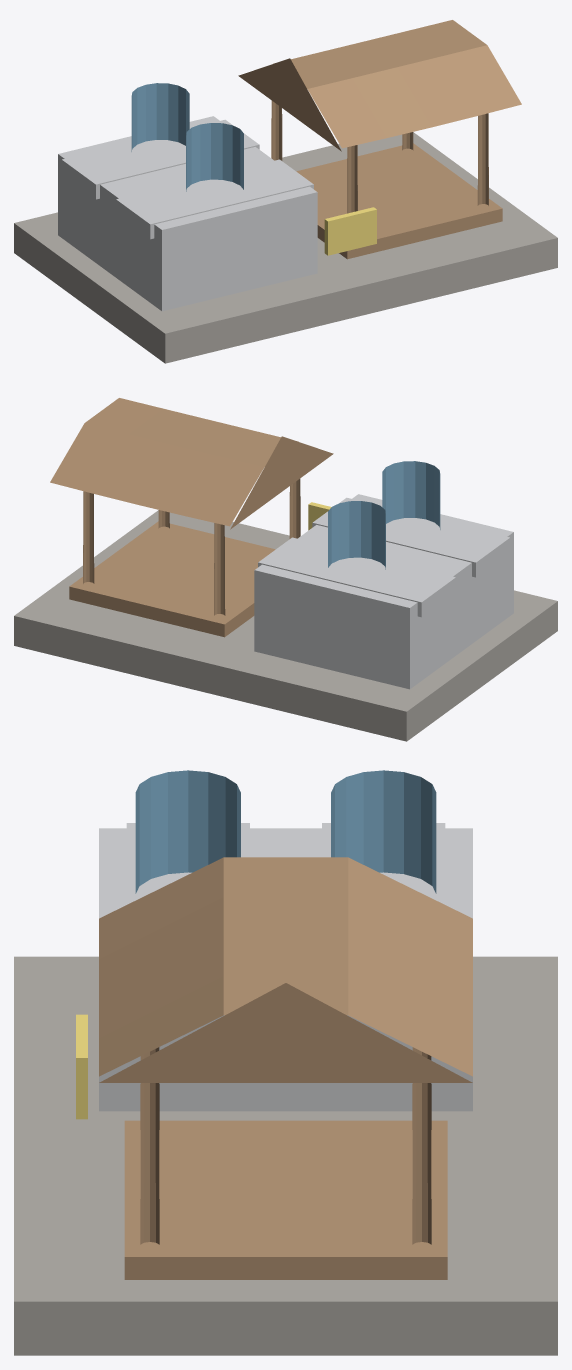
File: prop_24_deo_ngoan_muc_dran_penstock_anchor_block_and_lookout_kiosk.glb
3 views of the same model, one above another, from view 1: azimuth 30°, elevation 25°; view 2: azimuth 150°, elevation 25°; view 3: azimuth 270°, elevation 25° (orthographic). The views are drawn at different scales.
Visible parts, largest first — view 1: prop_24_deo_ngoan_muc_dran_penstock_anchor_block_and_lookout; view 2: prop_24_deo_ngoan_muc_dran_penstock_anchor_block_and_lookout; view 3: prop_24_deo_ngoan_muc_dran_penstock_anchor_block_and_lookout.
Boxes of the visible parts, x1,y1,x2,y2 form: prop_24_deo_ngoan_muc_dran_penstock_anchor_block_and_lookout: (14, 20, 557, 363); prop_24_deo_ngoan_muc_dran_penstock_anchor_block_and_lookout: (14, 398, 557, 741); prop_24_deo_ngoan_muc_dran_penstock_anchor_block_and_lookout: (14, 770, 557, 1355).
Bounding box in the file's own units: 9.6 × 4.7 × 6.4.
